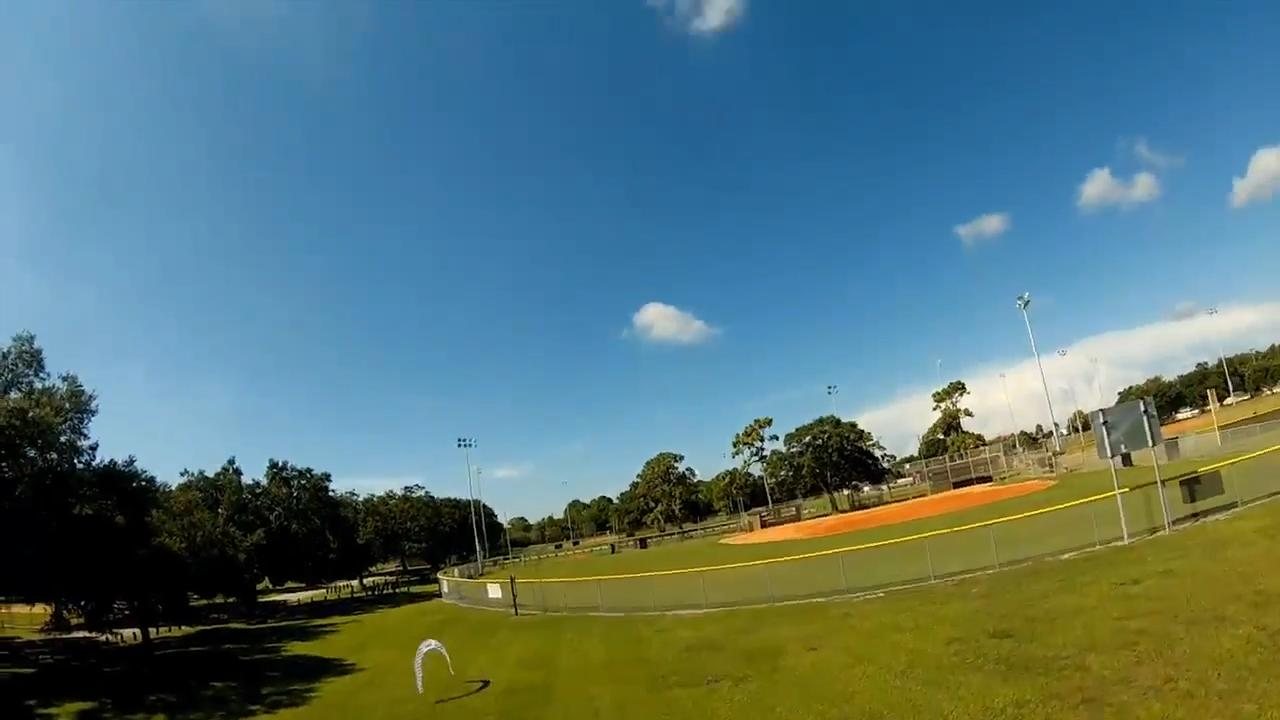gate: (411, 635, 457, 694)
